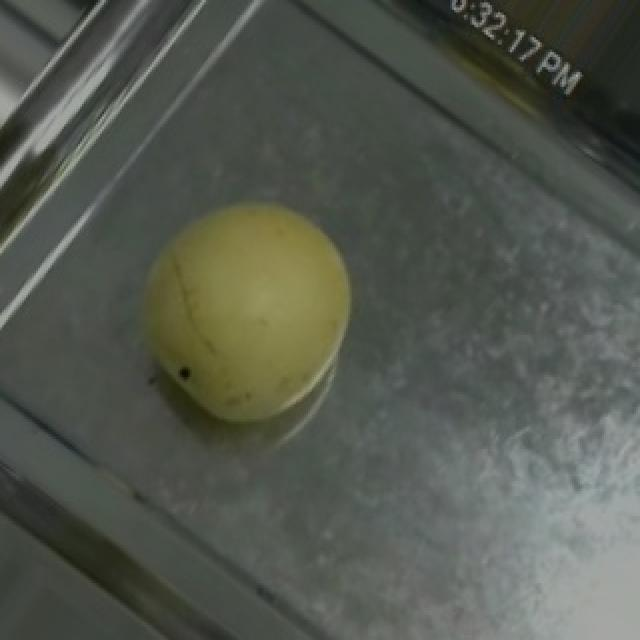Fruit: (92, 154, 398, 461)
